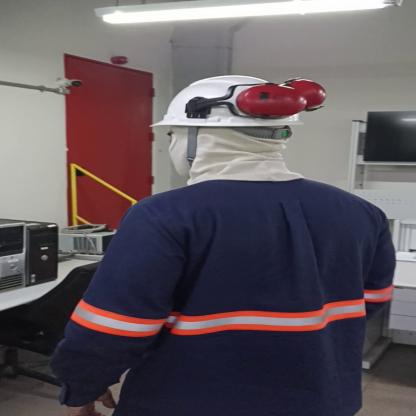Balaclava: (150, 127, 310, 191)
Capacete: (142, 73, 332, 133)
